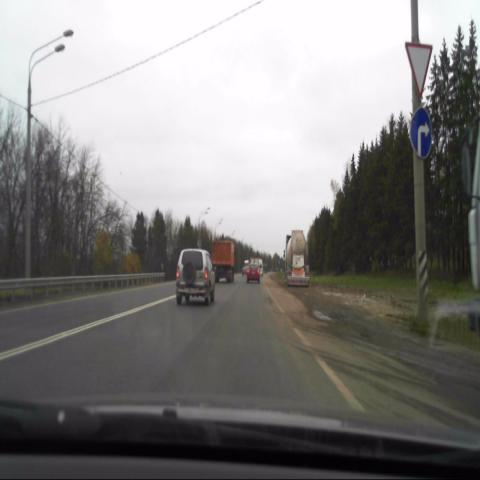4_1_2: (409, 108, 434, 161)
